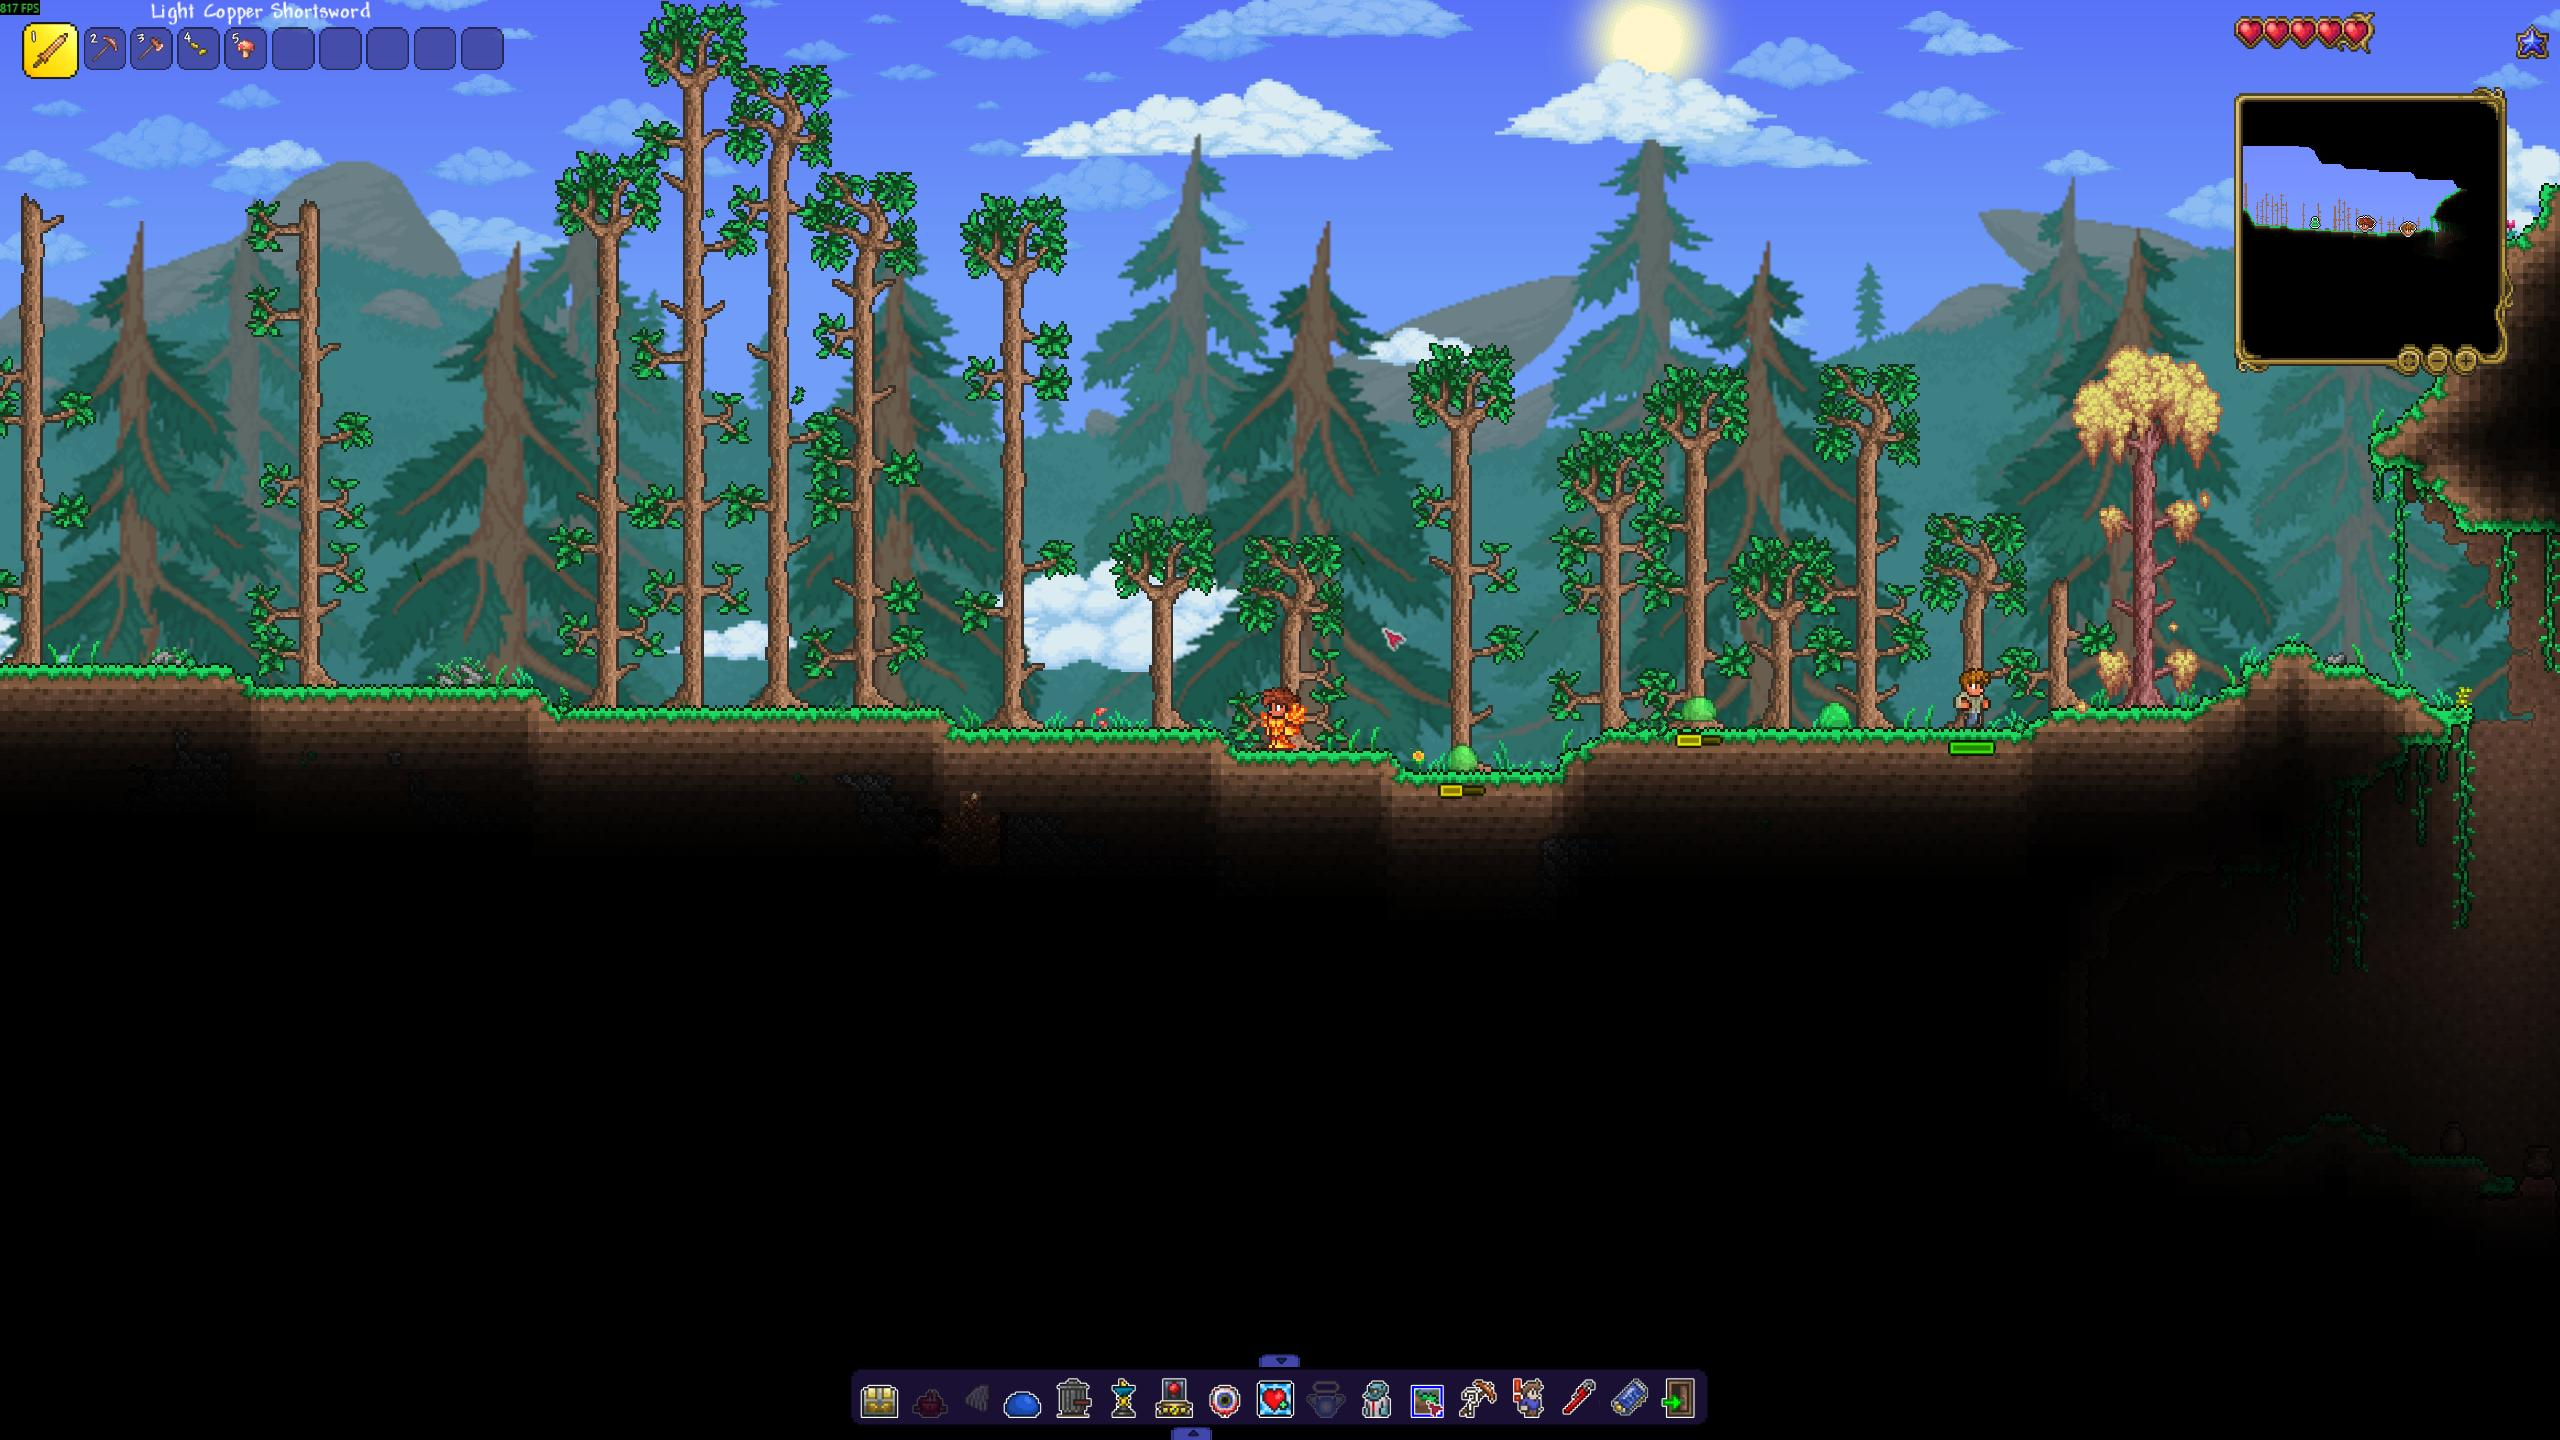Green Slime: (1679, 695, 1725, 724), (1815, 698, 1853, 730), (1440, 742, 1480, 772)
